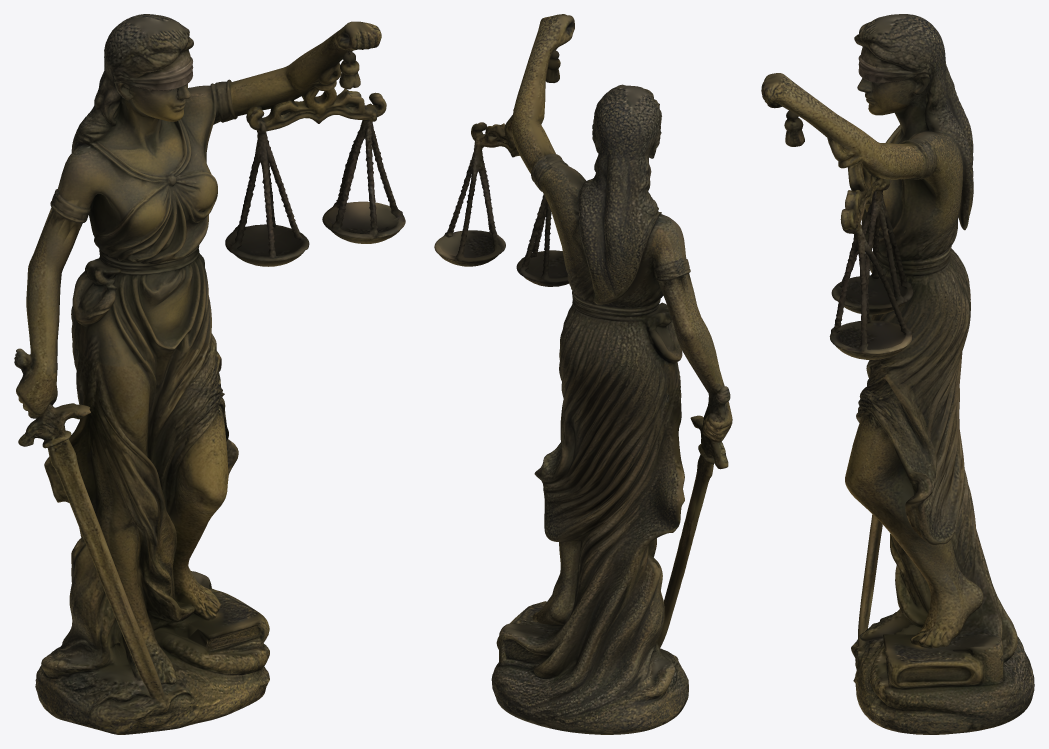
3 renders of one model, left to right at view 1: azimuth 30°, elevation 25°; view 2: azimuth 150°, elevation 25°; view 3: azimuth 270°, elevation 25°, orthographic. The views are drawn at different scales.
Parts seen in each view (by area): view 1: material; view 2: material; view 3: material.
Part boxes in pixels (bbox=[...]): material: bbox=[14, 14, 405, 734]; material: bbox=[434, 14, 732, 734]; material: bbox=[761, 14, 1034, 734].
Bounding box in the file's own units: 0.5922 × 1.1 × 0.4077.
1 material, 1 textured.
